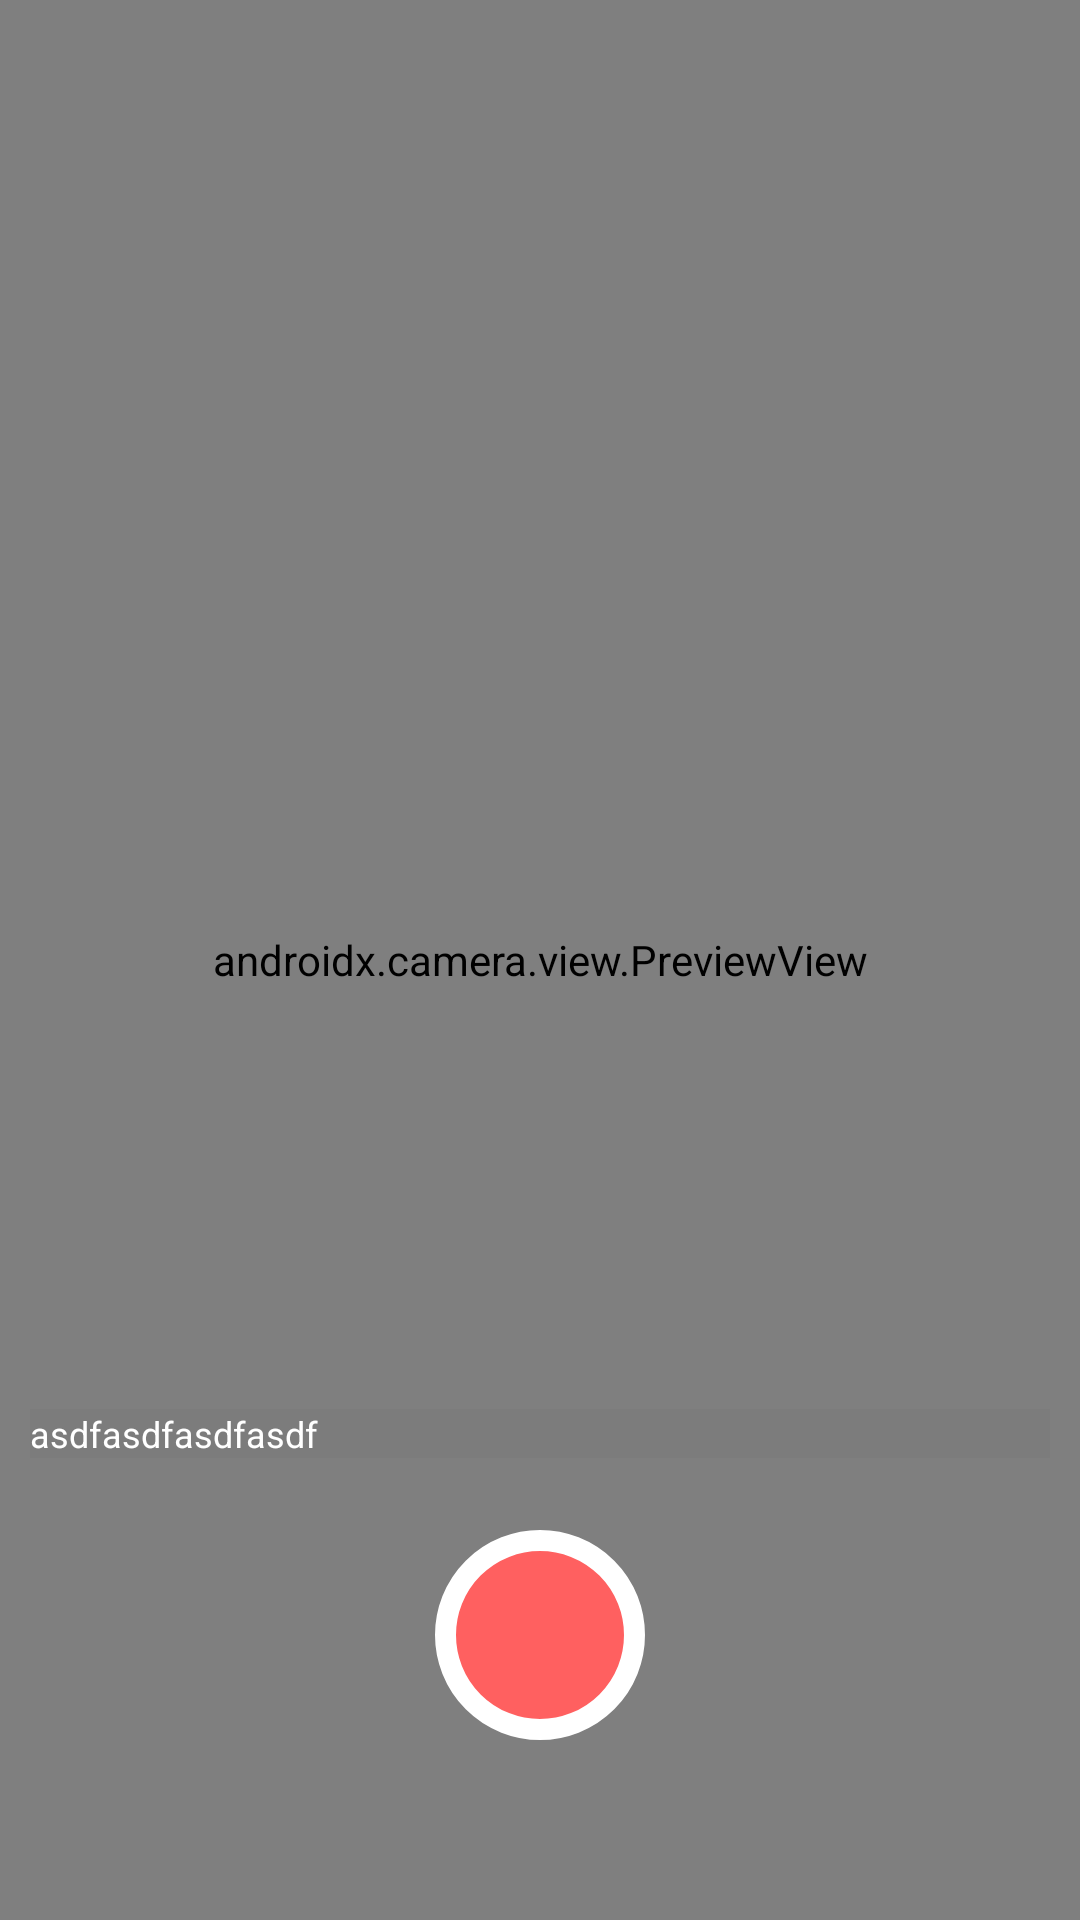

Icon click points for this 1080 × 1920 phone screenshot, format (x=x, y=y):
record: (x=540, y=1635)
